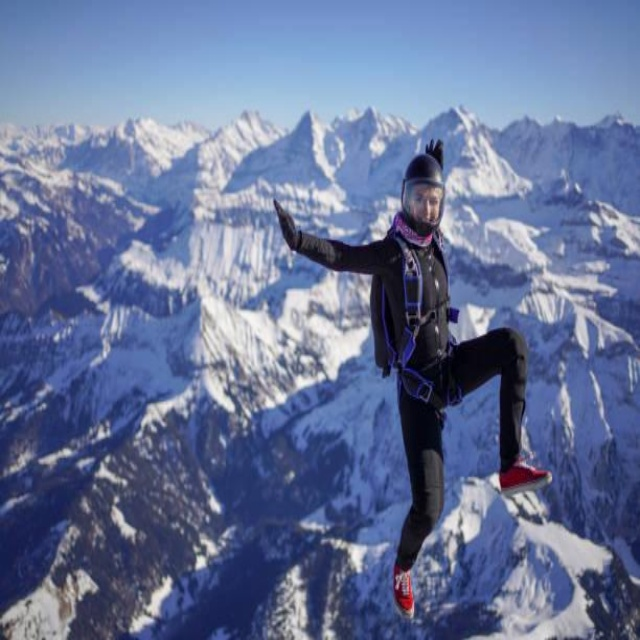Arnes_seguridad: (365, 217, 470, 429)
